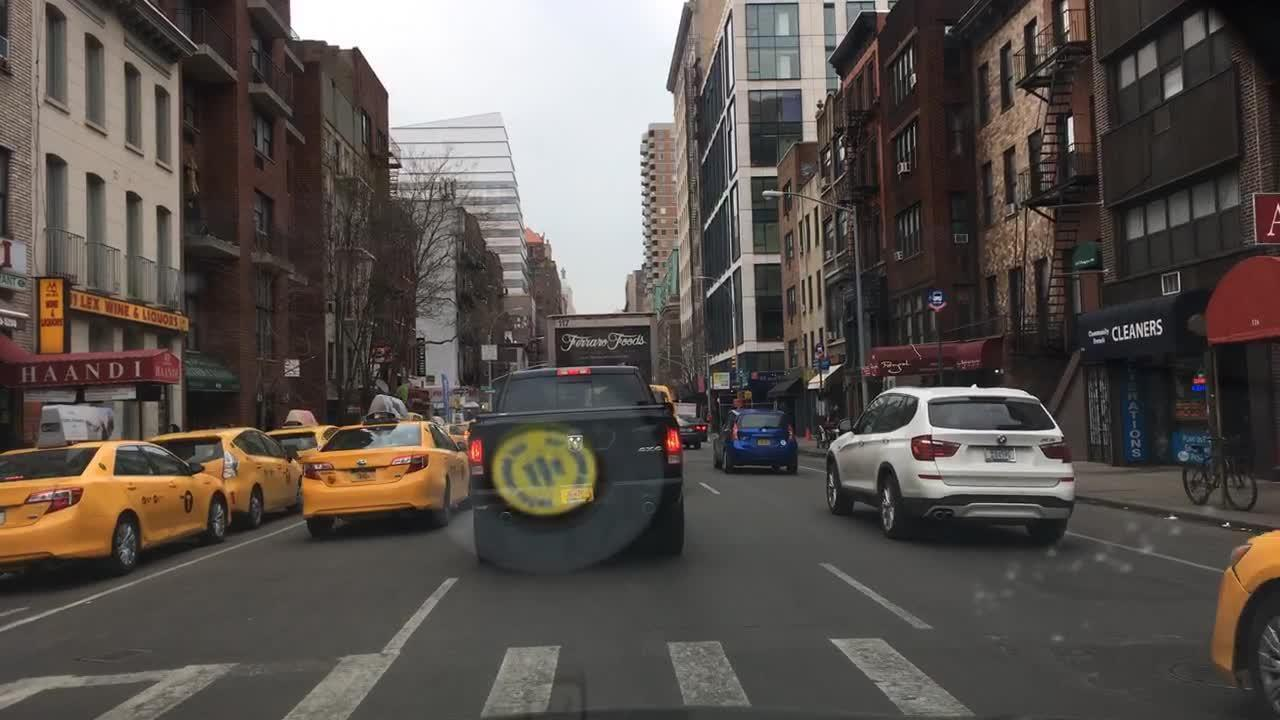Toyota: (351, 459, 374, 470)
bmw: (994, 434, 1014, 448)
ram: (563, 431, 588, 456)
